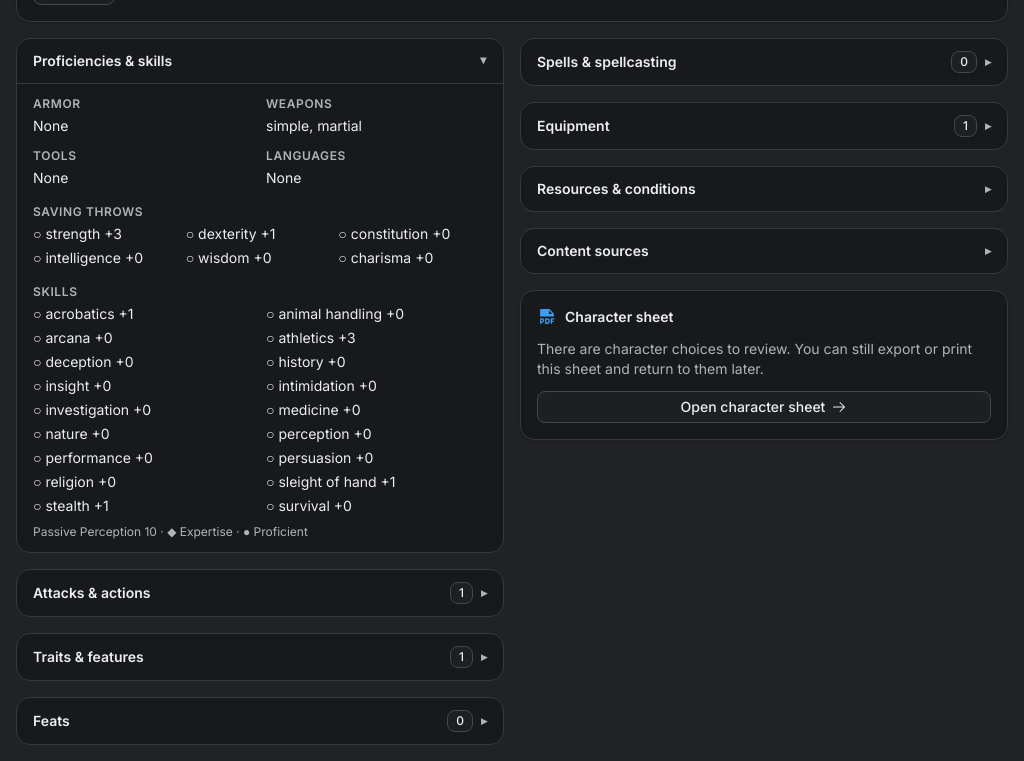
Test: unsupported weapon note is visible in source effects and Review and warns in PDF preflight even unattuned
This screenshot has width=1024, height=761.
(page scrolled)
Click the text "Traits & features". click: (88, 657)
box: x1=33 y1=647 x2=144 y2=667
(page scrolled)
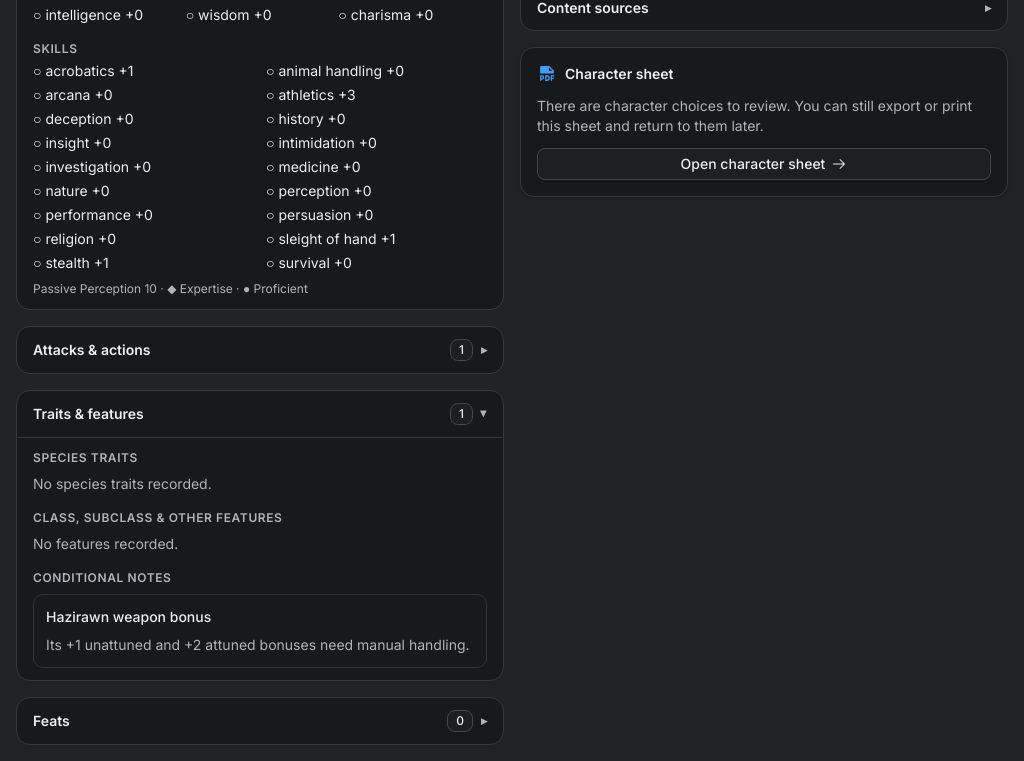
expect the text "Its +1 unattuned and +2 attuned bonuses need manual handling." is shown: met, box x1=46 y1=635 x2=474 y2=655
